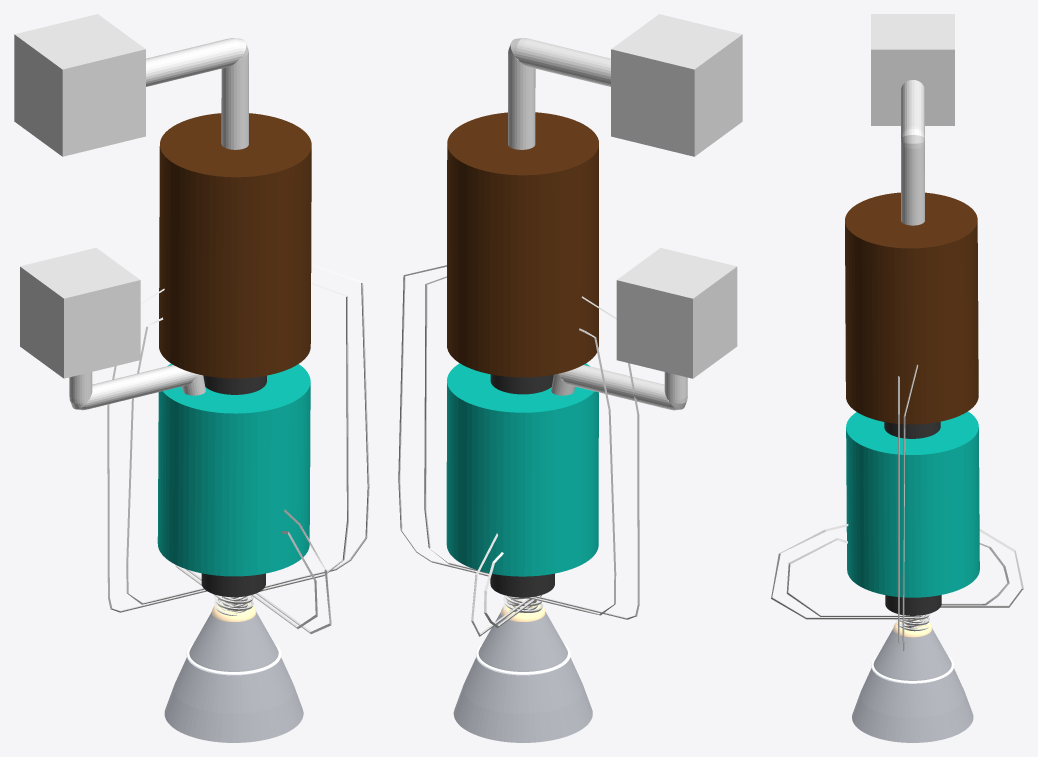
Rendered from aj10cquick.glb.
The picture shows the model from 3 angles, left to right: view 1: azimuth 30°, elevation 25°; view 2: azimuth 150°, elevation 25°; view 3: azimuth 270°, elevation 25°; orthographic projection. The views are drawn at different scales.
Visible parts, largest first — view 1: fuel, oxidizer, fp, op, chamber, spine (×2), f1, f2, f3, f4, o3, o4; view 2: fuel, oxidizer, fp, op, chamber, spine (×2), f3, f4, f1, f2; view 3: fuel, oxidizer, fp, chamber, spine (×2), o3, f1, f2, o4, o1, o2.
Boxes of the visible parts, x1,y1,x2,y2 form: fuel: [159, 113, 311, 378]; oxidizer: [157, 363, 310, 576]; fp: [14, 14, 248, 156]; op: [20, 247, 205, 410]; chamber: [164, 597, 303, 742]; spine (×2): [201, 375, 266, 597]; f1: [223, 264, 369, 611]; f2: [218, 282, 348, 613]; f3: [107, 288, 245, 612]; f4: [126, 317, 250, 607]; o3: [214, 509, 331, 633]; o4: [220, 531, 317, 628]; fuel: [447, 112, 598, 377]; oxidizer: [446, 363, 598, 576]; fp: [508, 14, 742, 156]; op: [551, 248, 737, 410]; chamber: [453, 598, 592, 742]; spine (×2): [490, 374, 554, 597]; f3: [513, 296, 639, 619]; f4: [507, 328, 616, 615]; f1: [398, 265, 533, 607]; f2: [424, 276, 536, 605]; fuel: [845, 192, 978, 424]; oxidizer: [846, 411, 979, 597]; fp: [871, 14, 954, 225]; chamber: [852, 619, 973, 742]; spine (×2): [884, 421, 941, 615]; o3: [771, 524, 929, 631]; f1: [902, 364, 921, 651]; f2: [898, 376, 926, 643]; o4: [786, 538, 923, 628]; o1: [900, 529, 1023, 623]; o2: [895, 543, 1009, 625].
Size of the model in its own units: 5.82 by 12.11 by 4.48.
